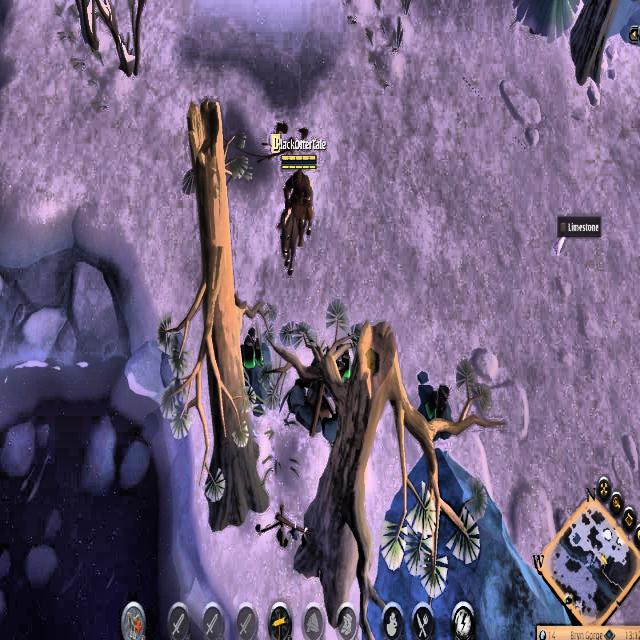tinore: (416, 374, 460, 444), (230, 323, 273, 388), (326, 346, 358, 393)
